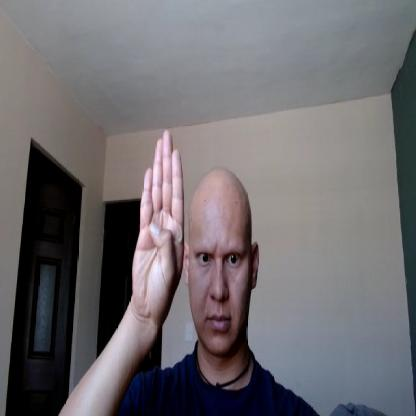B: (132, 129, 184, 326)
